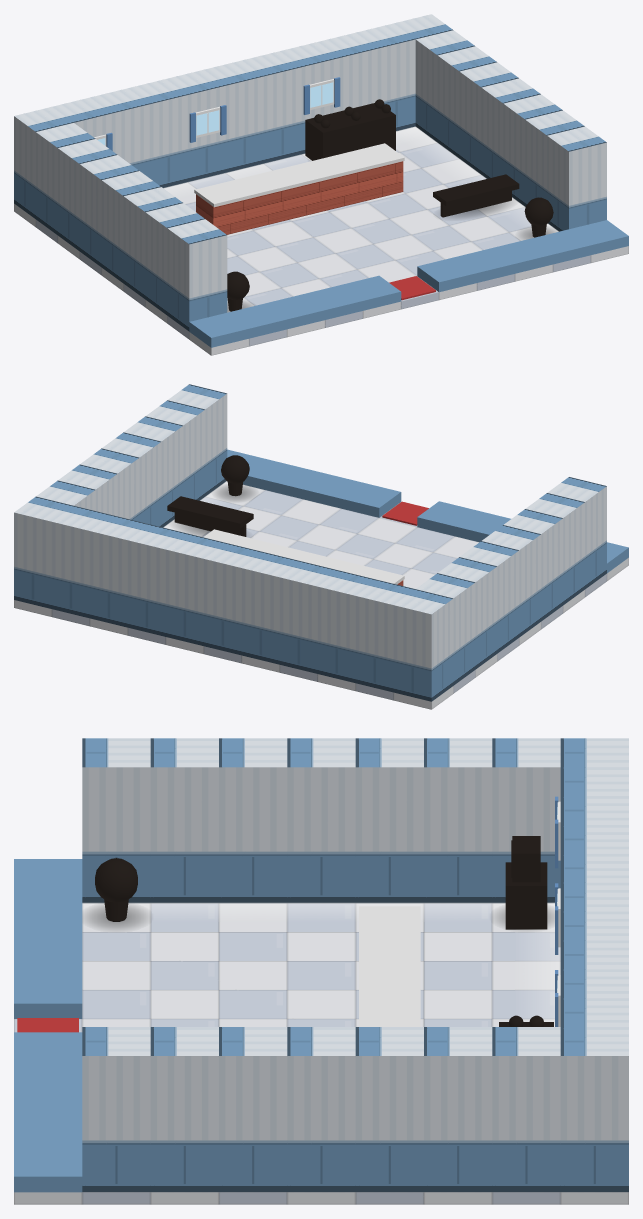
The model's file is centro5.glb.
The picture shows the model from 3 angles, top to bottom: view 1: azimuth 30°, elevation 25°; view 2: azimuth 150°, elevation 25°; view 3: azimuth 270°, elevation 25°; orthographic projection. The views are drawn at different scales.
Parts seen in each view (by area): view 1: malha__semsombra (×44), malha__contorno (×5), mapa_centro5; view 2: malha__semsombra (×35), malha__contorno (×3); view 3: malha__semsombra (×49), malha__contorno (×3).
Boxes of the visible parts, bbox=[...] form: malha__semsombra (×44): bbox=[14, 14, 628, 355]; malha__contorno (×5): bbox=[227, 103, 553, 299]; mapa_centro5: bbox=[196, 161, 403, 234]; malha__semsombra (×35): bbox=[14, 384, 628, 709]; malha__contorno (×3): bbox=[167, 455, 253, 536]; malha__semsombra (×49): bbox=[14, 738, 628, 1204]; malha__contorno (×3): bbox=[95, 836, 547, 929].
Size of the model in its own units: 11 by 2.4 by 9.
Materials: 27 (9 with a texture image).
